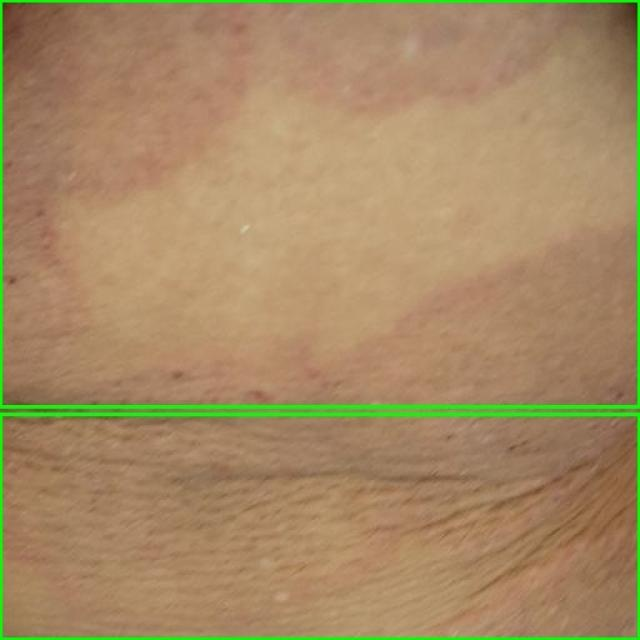Tinea Corporis: (0, 0, 639, 406), (0, 414, 639, 639)
